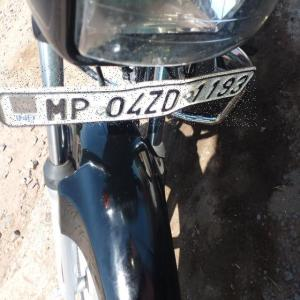Plate: (1, 67, 256, 127)
